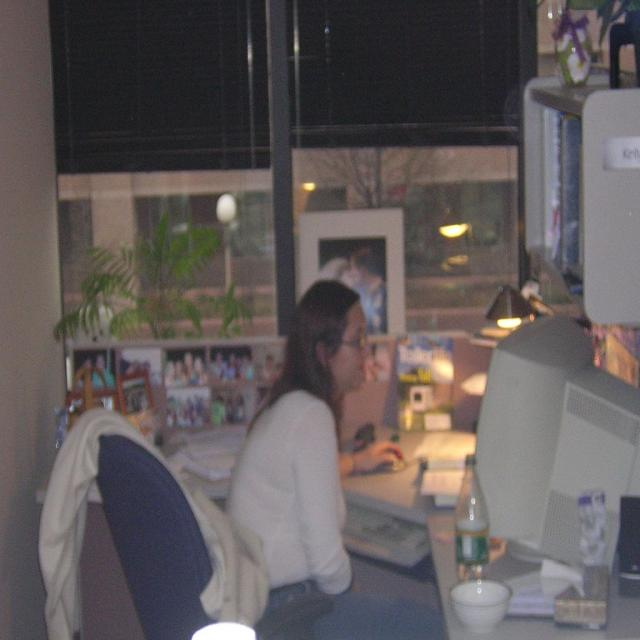chair: (39, 407, 268, 640)
desk: (38, 426, 640, 640)
person: (225, 278, 415, 638)
tv: (474, 314, 639, 574)
